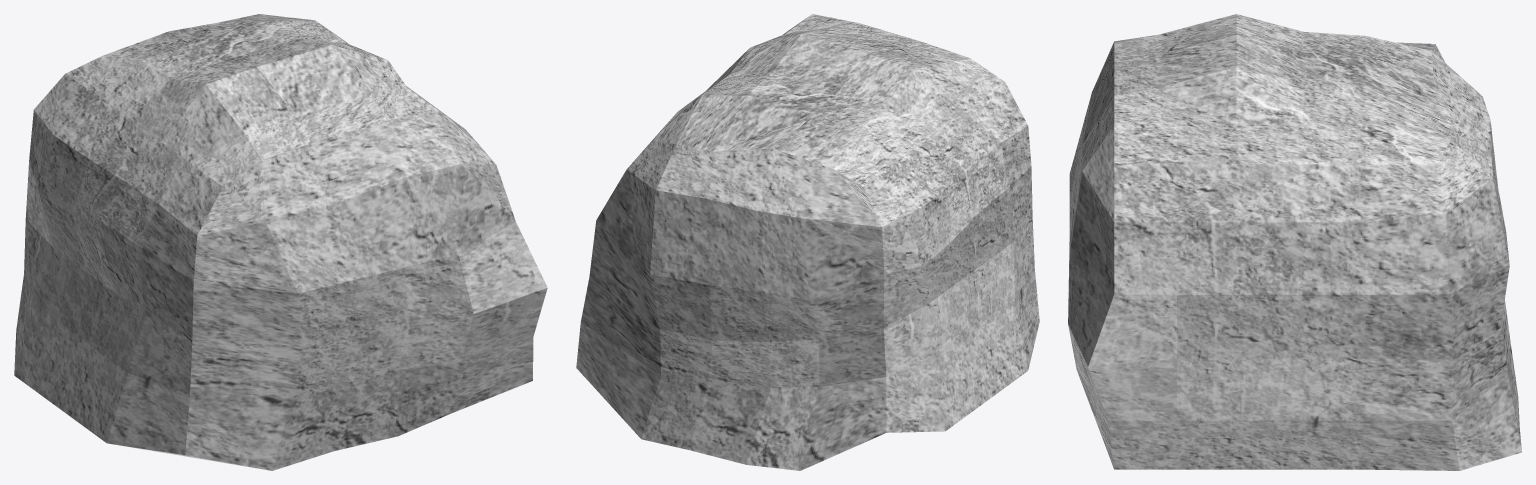
Rendered from stone.fbx.
3 renders of one model, left to right at view 1: azimuth 30°, elevation 25°; view 2: azimuth 150°, elevation 25°; view 3: azimuth 270°, elevation 25°, orthographic. The views are drawn at different scales.
Parts seen in each view (by area): view 1: 立方体; view 2: 立方体; view 3: 立方体.
Part boxes in pixels (bbox=[...]): 立方体: bbox=[14, 14, 547, 470]; 立方体: bbox=[576, 14, 1039, 470]; 立方体: bbox=[1068, 14, 1521, 470].
Size of the model in its own units: 385 by 347 by 388.
